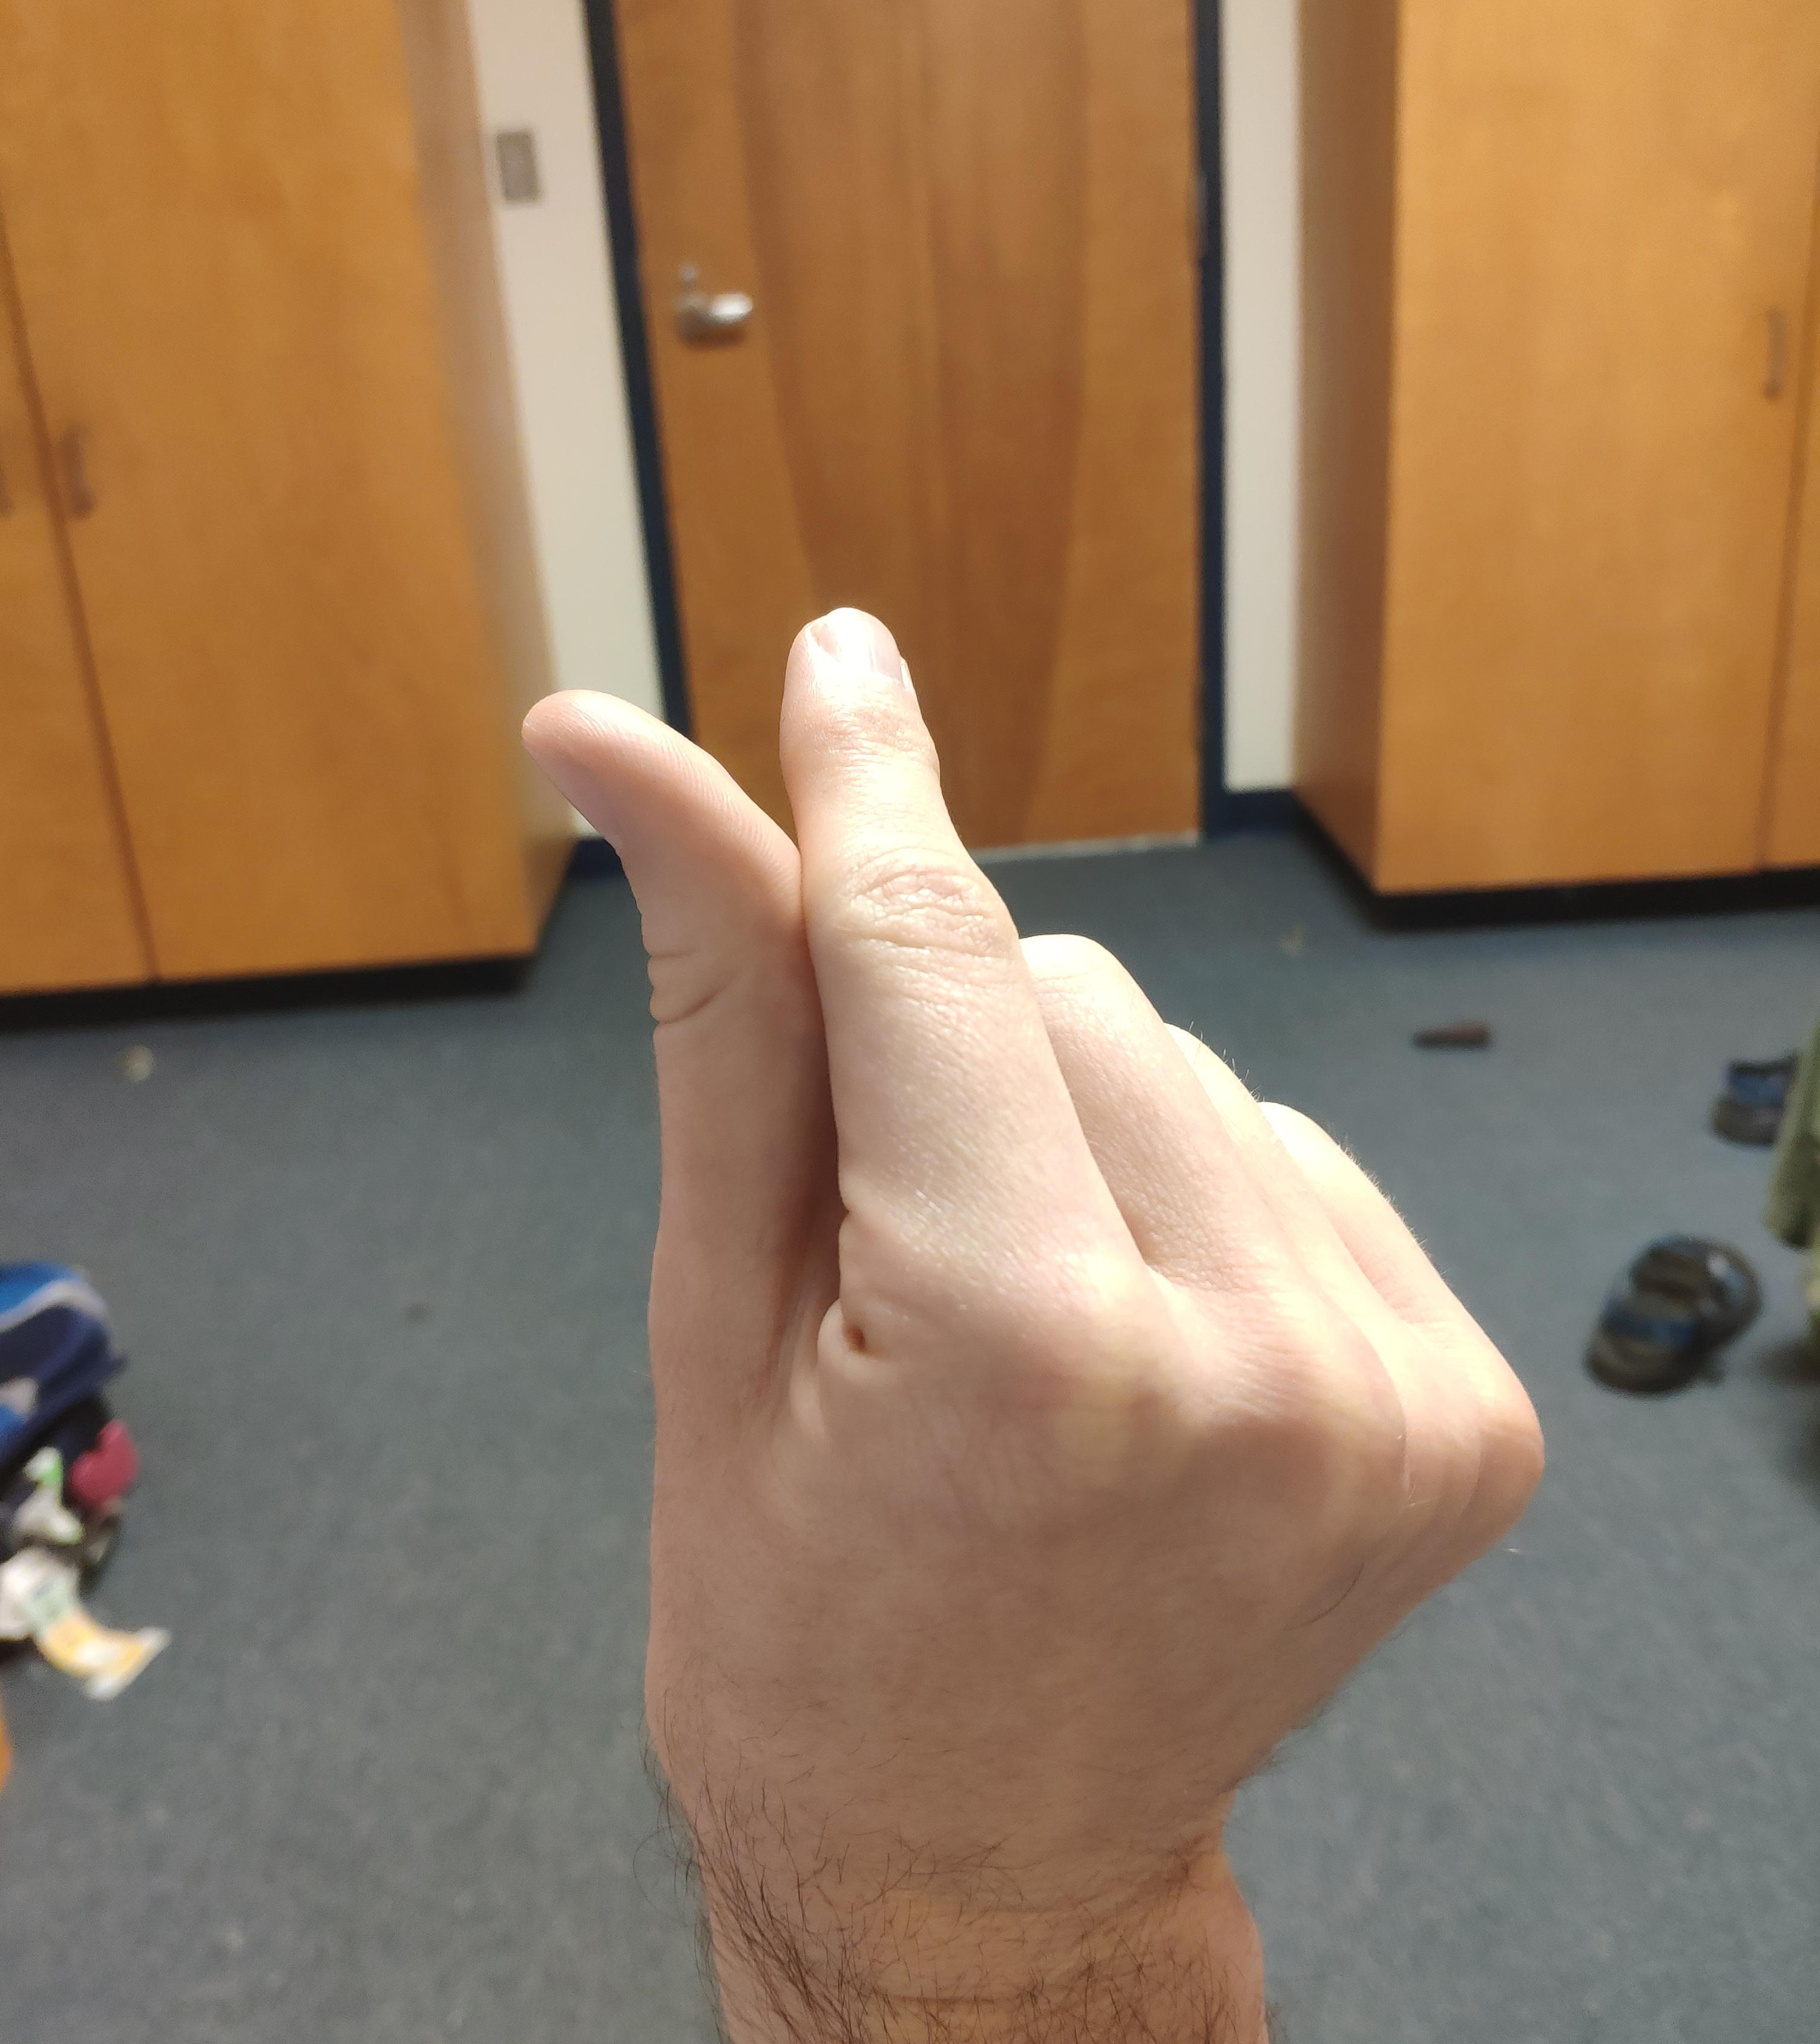heart gesture: (515, 594, 975, 1034)
